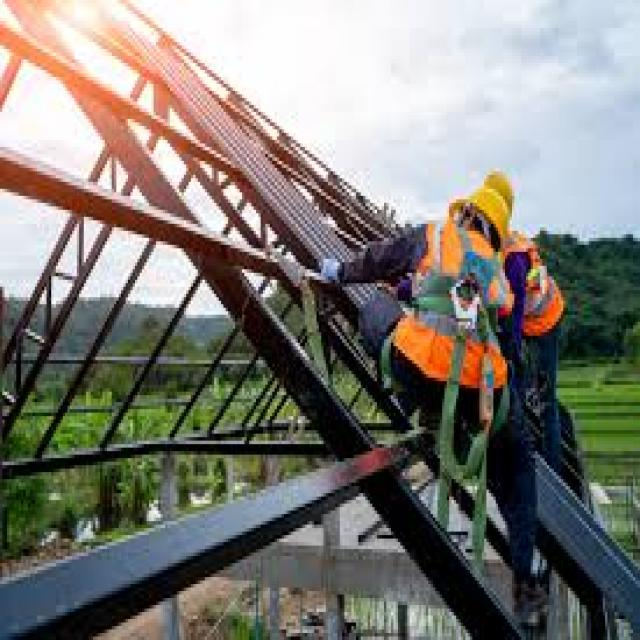Reflective-Jacket: (389, 207, 505, 396), (496, 231, 572, 346)
Safety-Helmet: (461, 164, 524, 248)
